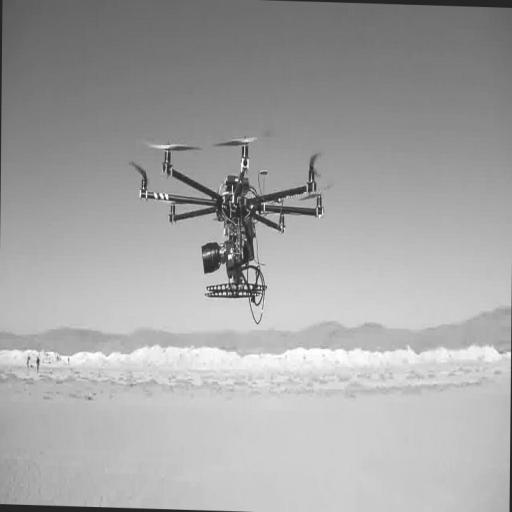drone: (133, 126, 329, 308)
